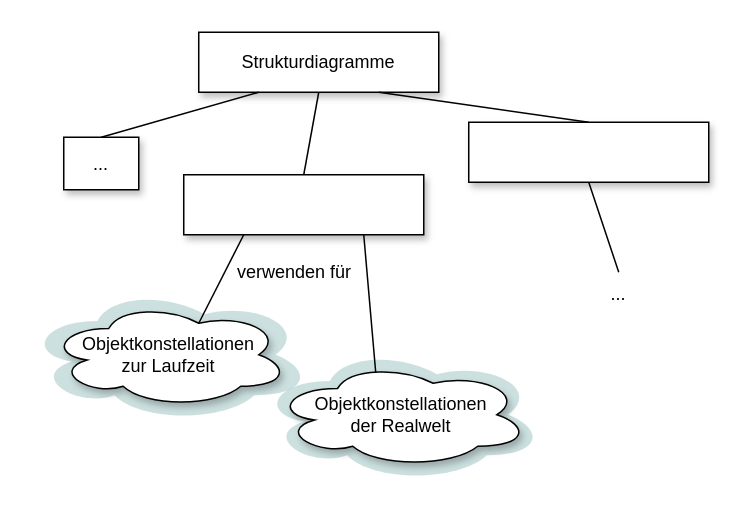
Some shapes in this 744 by 509 pixel diagram are drawn without their labels. Here are the shapes that lost their labels. From the top down, the centre of each, then its label:
At (x=589, y=154): "Klassendiagramm".
At (x=304, y=206): "Objektdiagramm".
